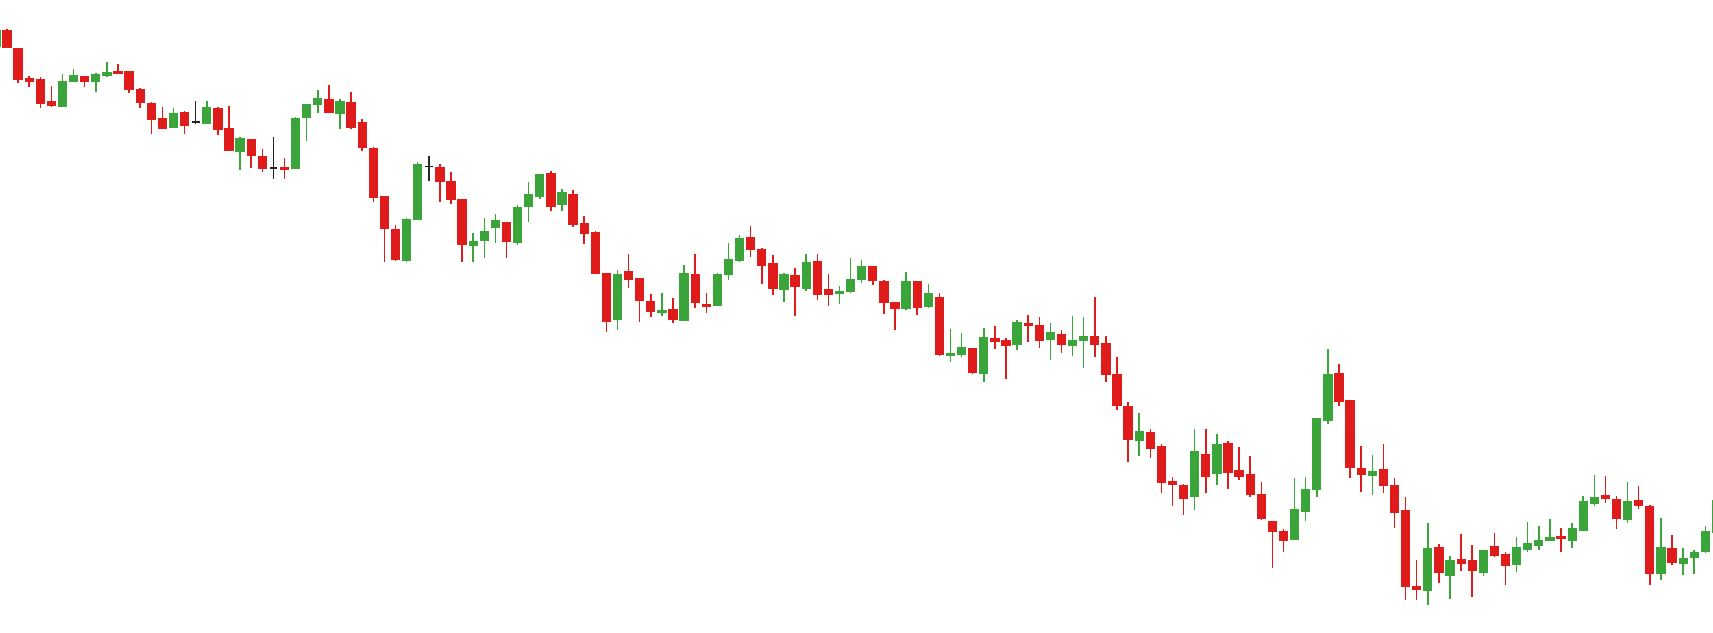sell: (224, 87, 338, 153), (690, 223, 766, 297)
